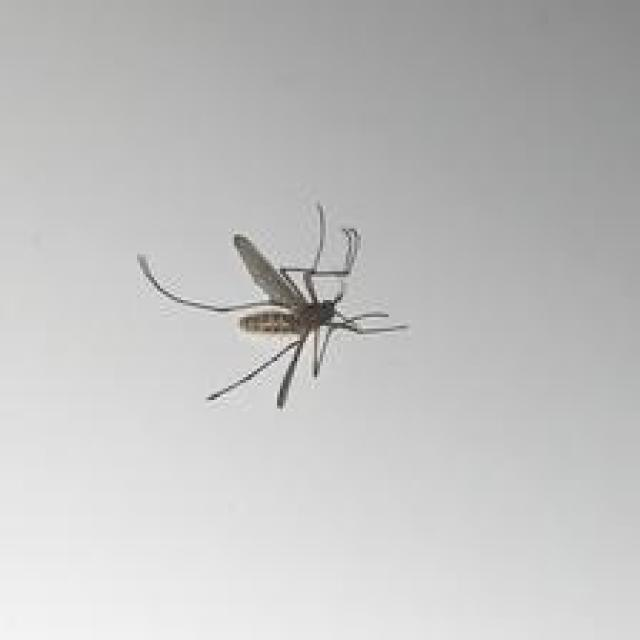Culex: (136, 201, 410, 410)
